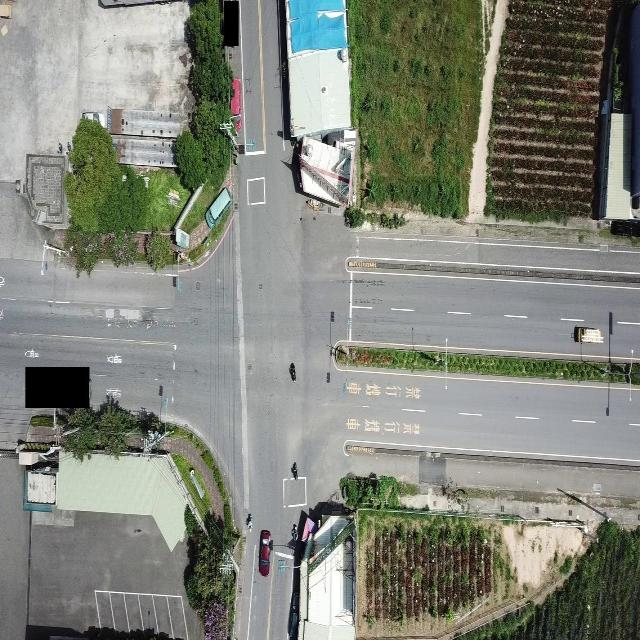bike: (288, 362, 296, 382), (290, 461, 298, 480), (291, 522, 298, 541), (246, 512, 252, 531)
car: (204, 186, 231, 229), (228, 75, 244, 133), (258, 529, 273, 576), (574, 324, 602, 344)
